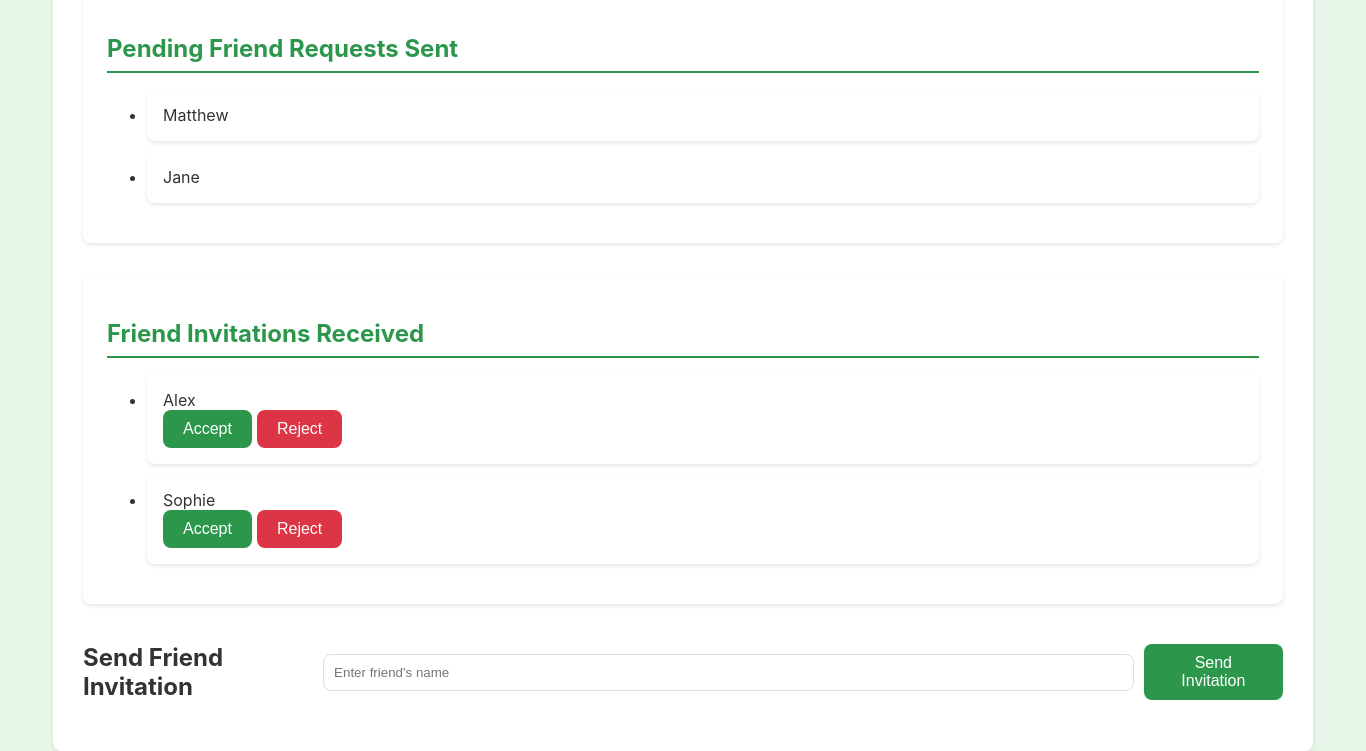
Test: FriendsPage › allows sending a new friend invitation
The image size is (1366, 751).
(page scrolled)
Type "New Friend" into the field with placeholder "Enter friend's name".
click(728, 672); type("New Friend")  # box [323,654,1134,691]
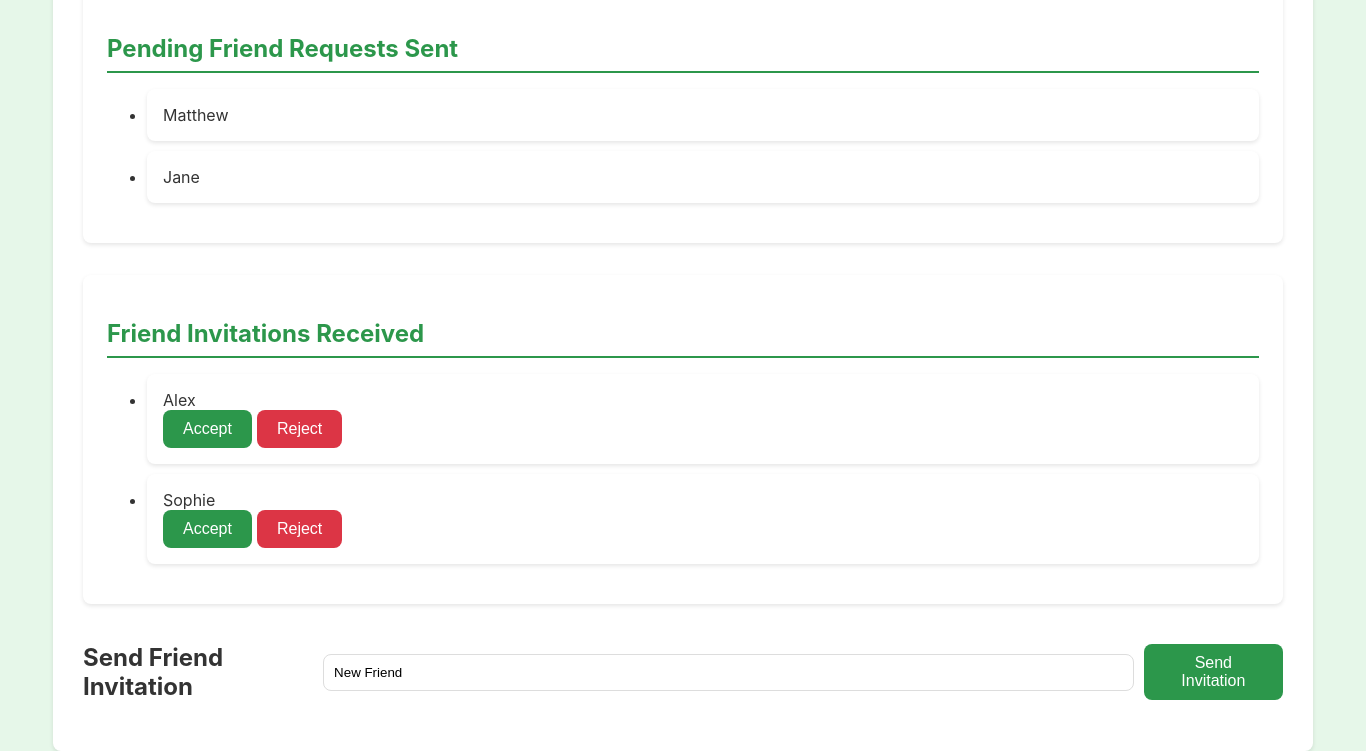
Click the button "Send Invitation".
click(1213, 672)  # box [1144,644,1283,700]
(page scrolled)
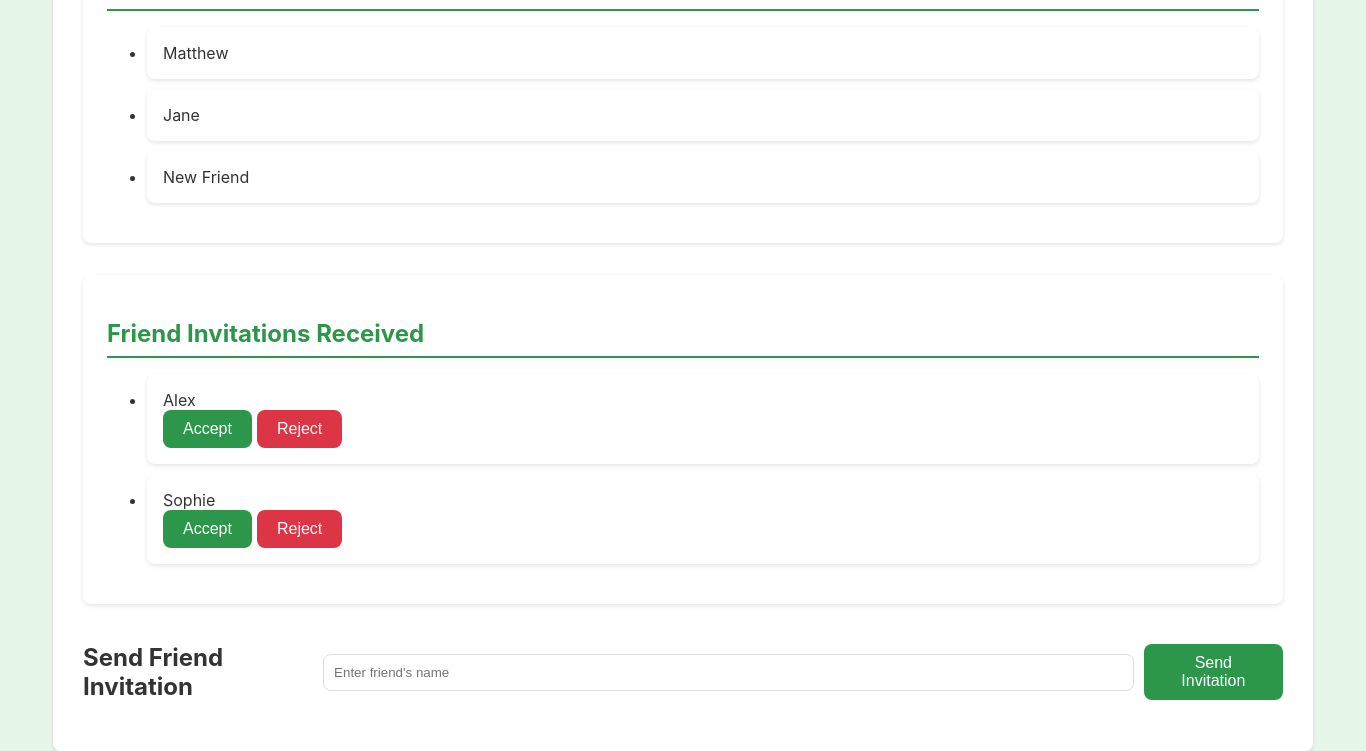
Result: the list item "New Friend" is shown at [147,151,1259,203]
Result: the field with placeholder "Enter friend's name" is empty at [323,654,1134,691]
